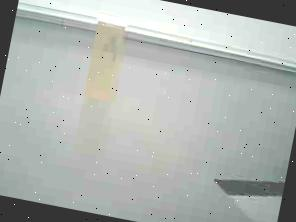Bottle A: (79, 8, 136, 108)
